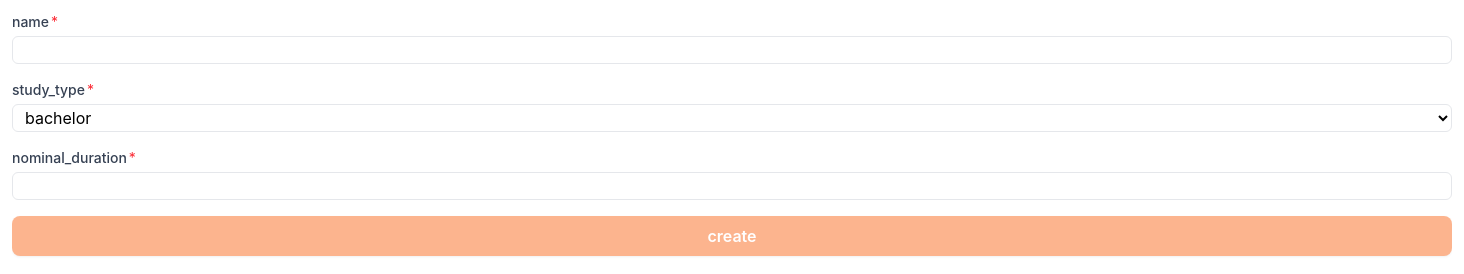
Scenario: EditStudyOverlay › disables submit until required fields are filled
Expected: the button "create" is disabled, [12,216,1452,256]
Type "CS" into the field labelled "name *".
click(732, 50); type("CS")  # box [12,36,1452,64]
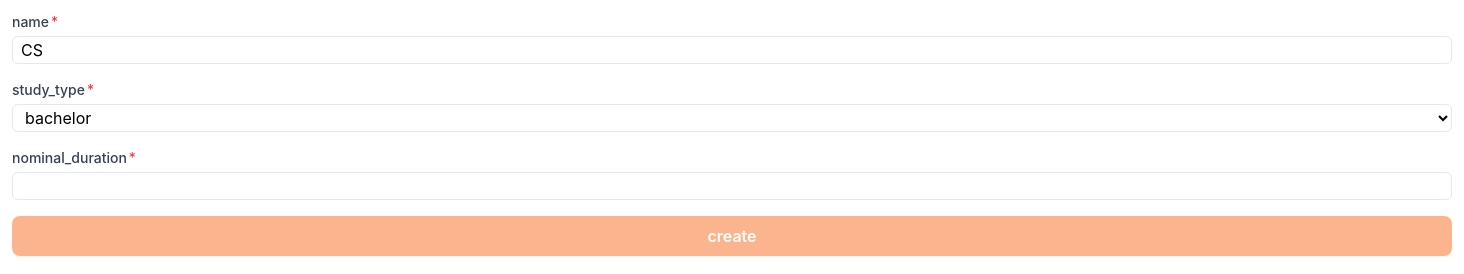
Type "3" into the number field labelled "nominal_duration *".
click(732, 186); type("3")  # box [12,172,1452,200]
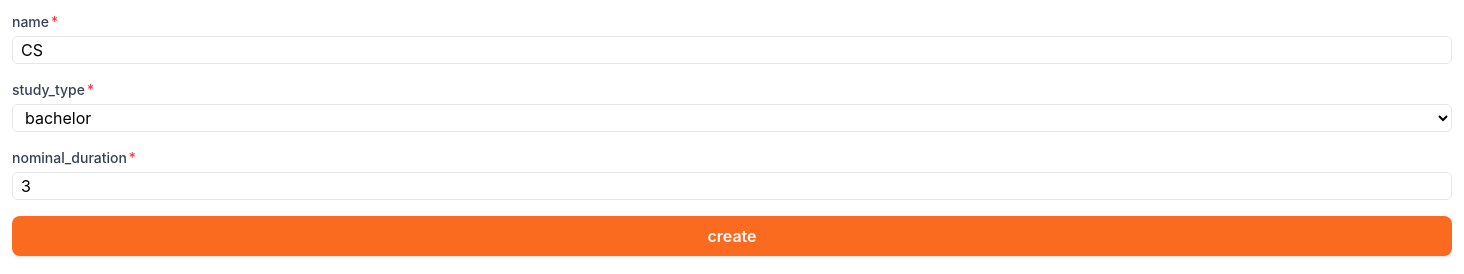
Expected: the button "create" is enabled, [12,216,1452,256]
